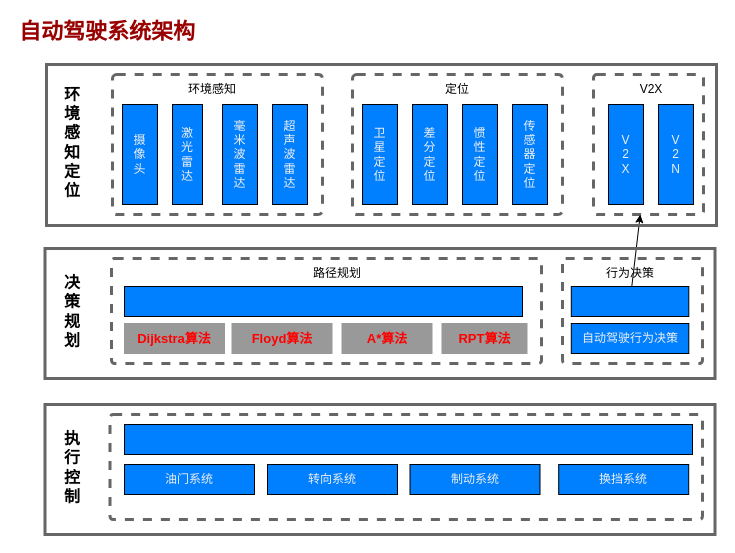
Some shapes in this 735 by 553 pixel diagram are drawn without their labels. The shapes that lost their labels are listed below. From the top down, each one's centre as x and y in pixels, then its label:
At pixel 323 301: "高精地图".
At pixel 629 301: "自动驾驶行为预测".
At pixel 408 439: "CAN数据总线".
